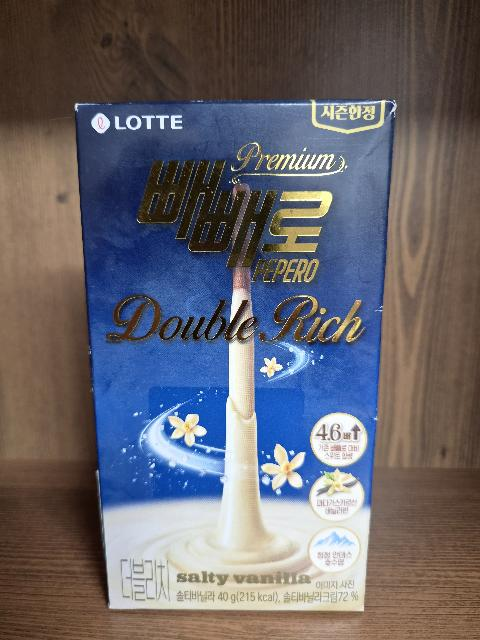pepero: (75, 99, 396, 611)
